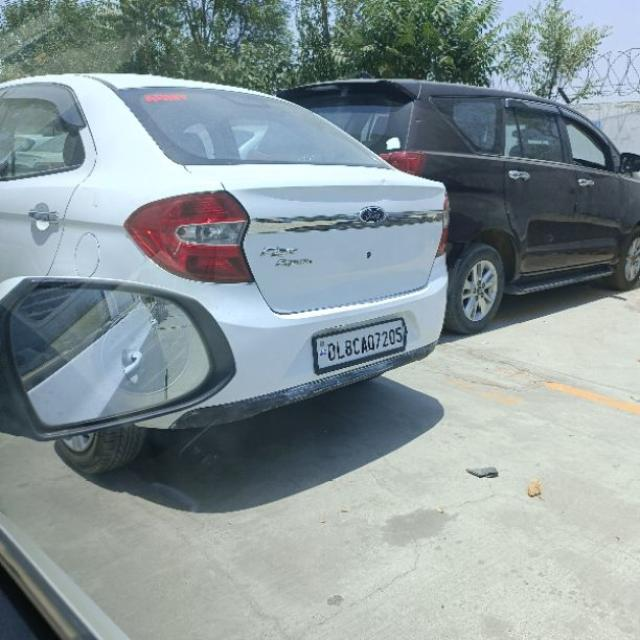license_plate: (310, 315, 408, 374)
